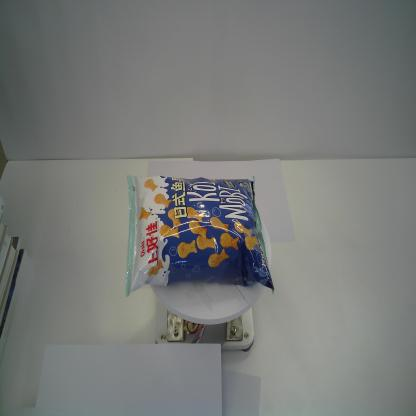Puffed Food: (124, 173, 275, 296)
